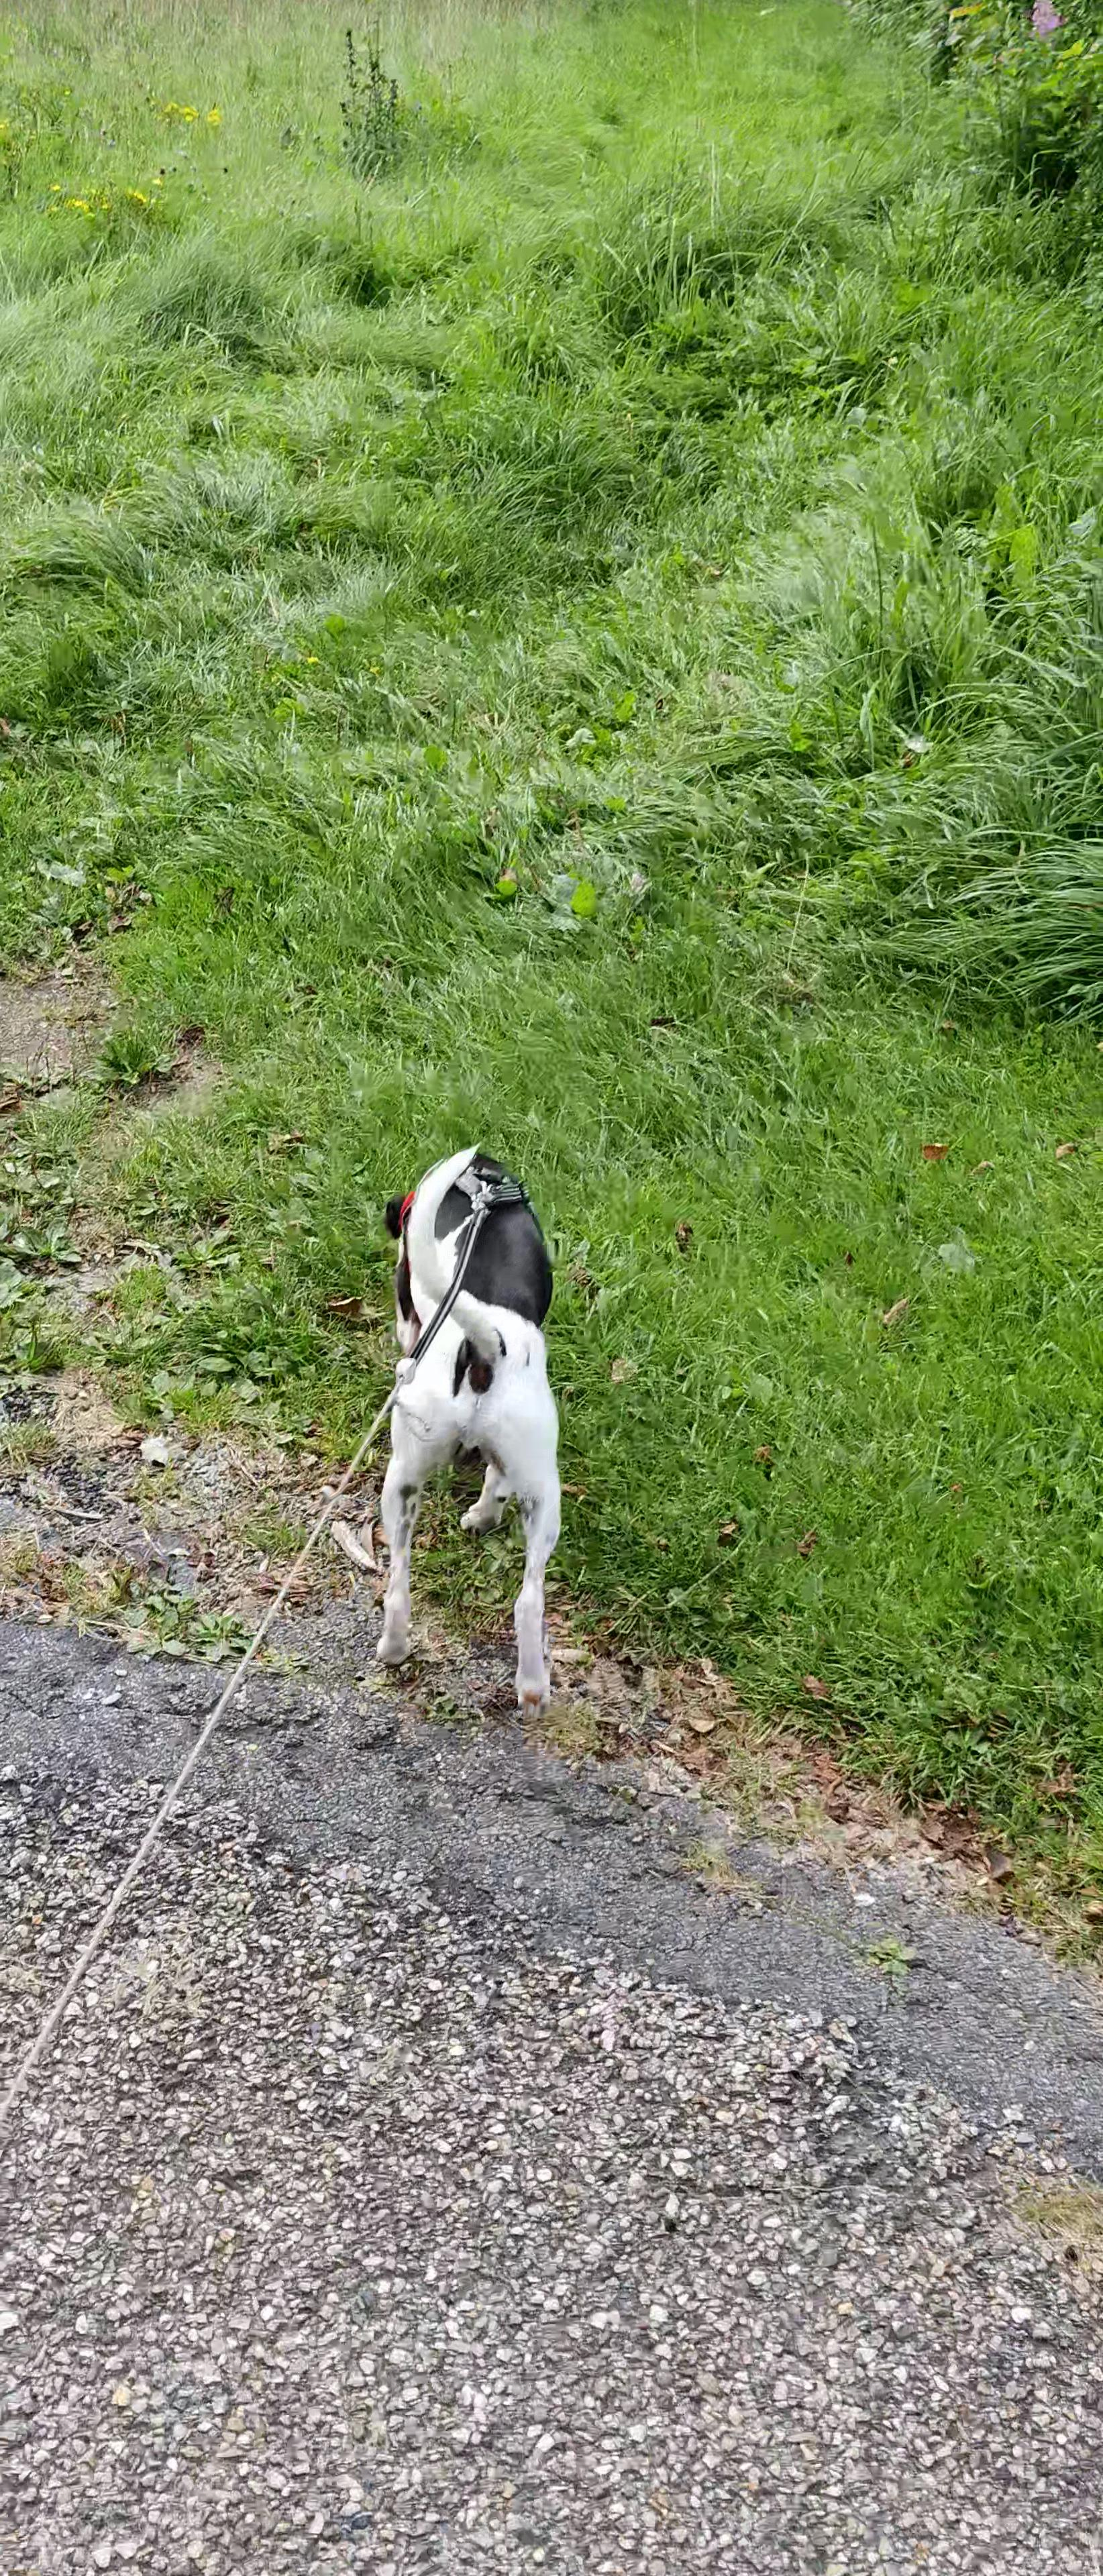Dog: (340, 1107, 605, 1727)
